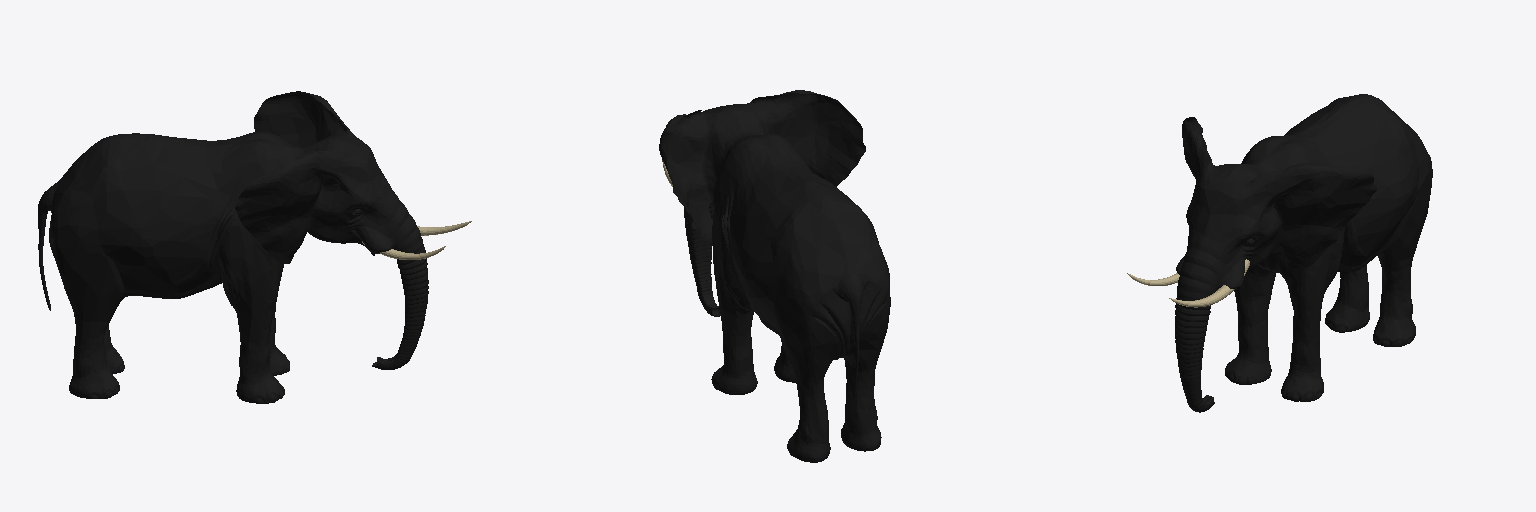
File: elephant.obj
3 views of the same model, side by side, from view 1: azimuth 30°, elevation 25°; view 2: azimuth 150°, elevation 25°; view 3: azimuth 270°, elevation 25° (orthographic).
Visible parts, largest first — view 1: MainEleM; view 2: MainEleM; view 3: MainEleM.
Boxes of the visible parts, x1,y1,x2,y2 form: MainEleM: [38, 91, 471, 403]; MainEleM: [659, 90, 890, 462]; MainEleM: [1127, 94, 1432, 412].
Bounding box in the file's own units: 19.09 × 14.86 × 15.69.